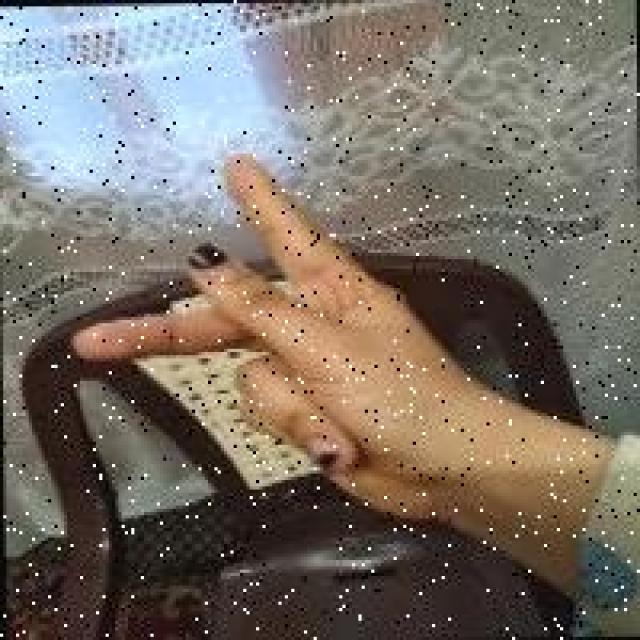K: (72, 139, 462, 530)
